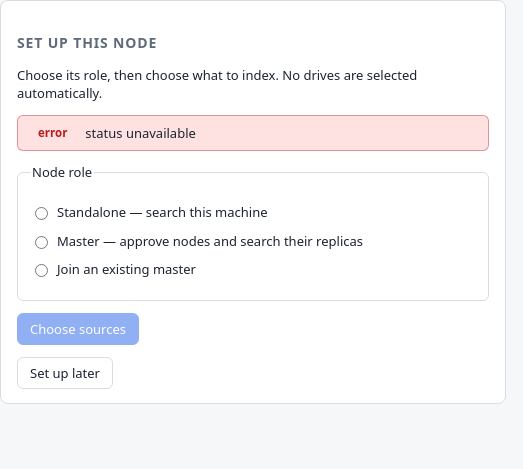
Scenario: unavailable fleet status still requires standalone configuration to be saved
Click the radio button labelled "Standalone — search this machine". click: (42, 214)
box: 35,207 -> 48,220
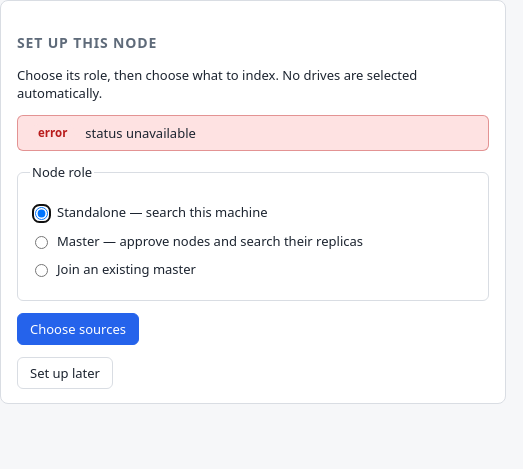
Click the button "Choose sources". click: (78, 329)
box: 17,313 -> 139,345
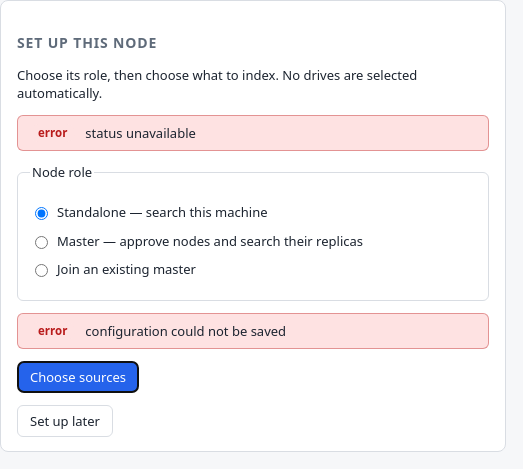
Expected: the text "configuration could not be saved" is shown, 85,322 -> 286,340
